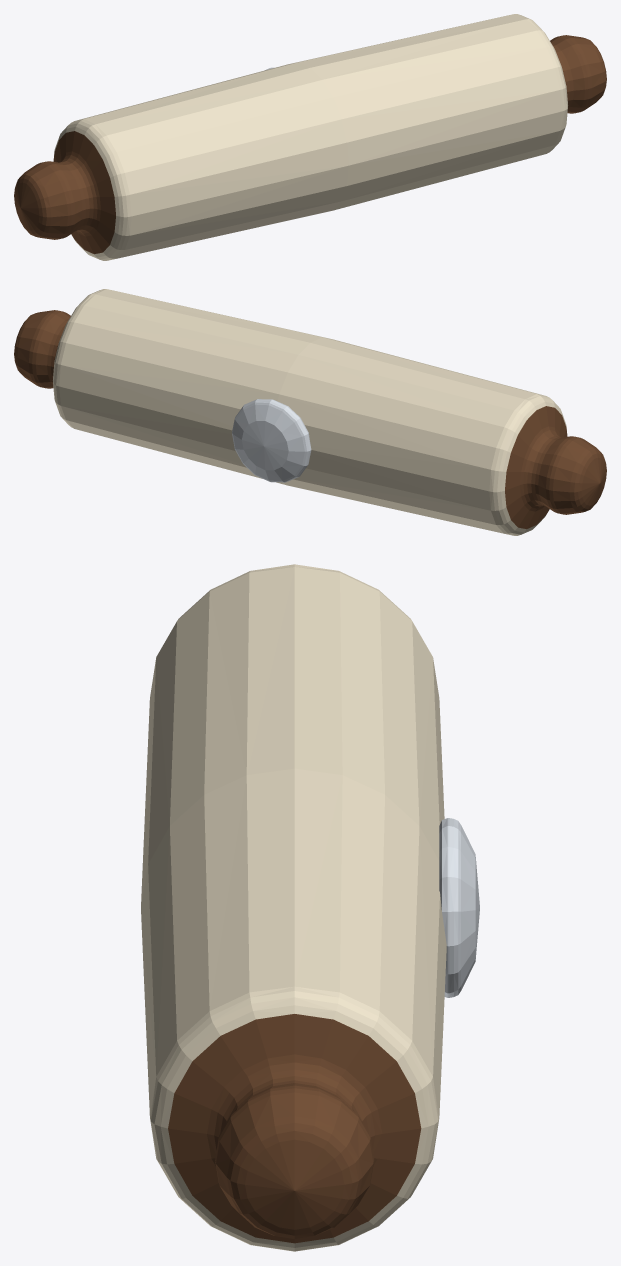
Rendered from PropScroll.obj.
3 renders of one model, top to bottom at view 1: azimuth 30°, elevation 25°; view 2: azimuth 150°, elevation 25°; view 3: azimuth 270°, elevation 25°, orthographic. The views are drawn at different scales.
Size of the model in its own units: 1.48 by 0.34 by 0.375.
